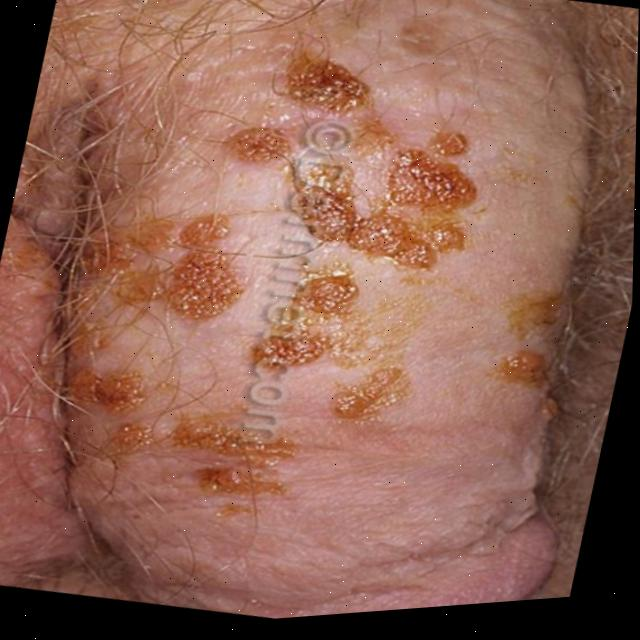Shingles: (87, 2, 518, 517)
